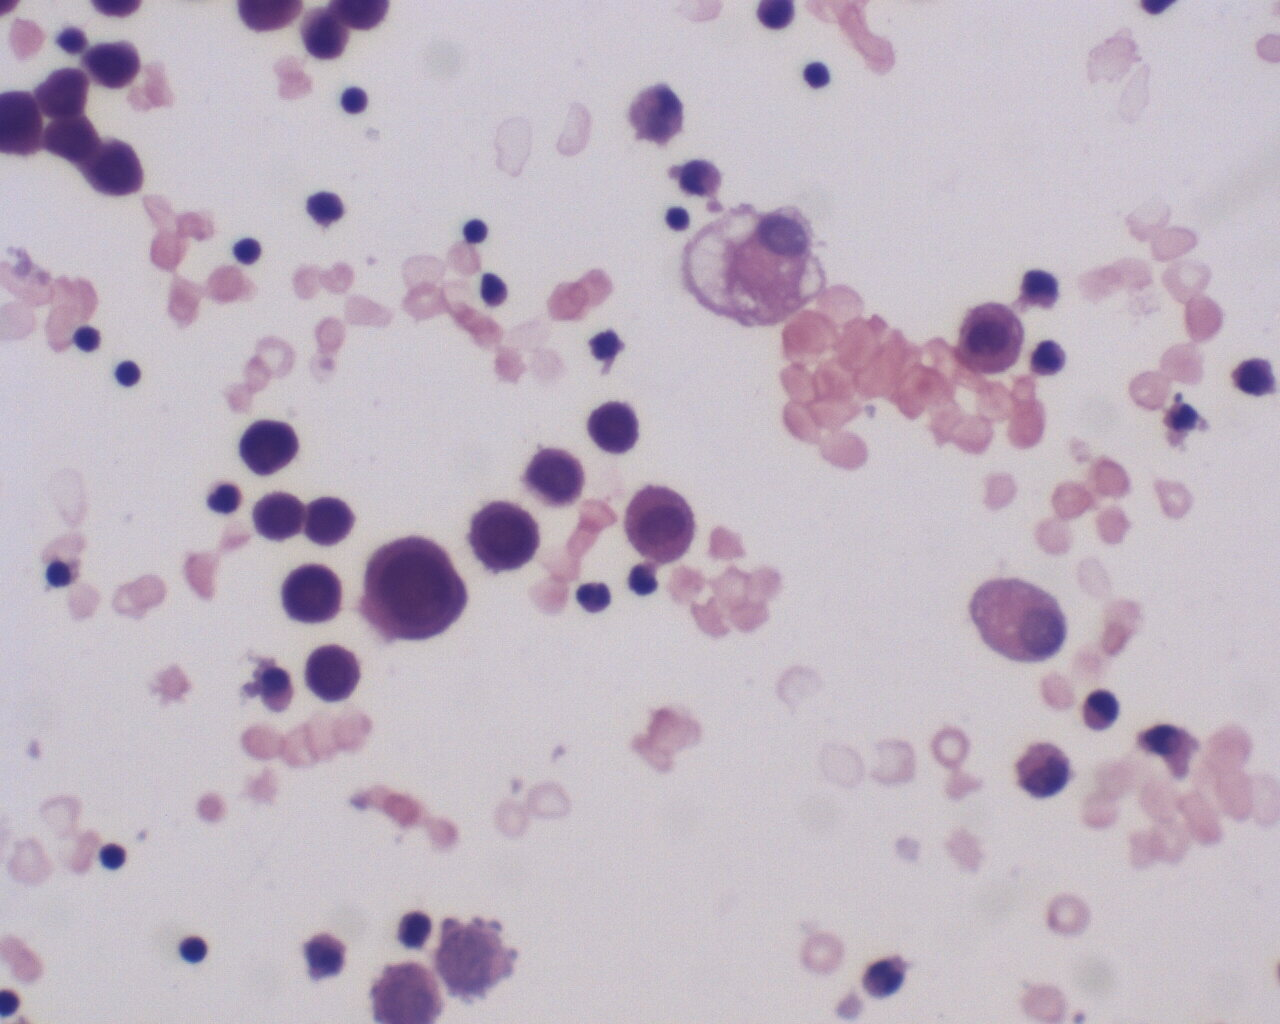ab: (358, 534, 468, 645), (469, 502, 539, 574), (79, 137, 149, 204), (280, 558, 346, 628), (519, 445, 586, 509), (238, 413, 299, 480), (585, 397, 648, 460), (301, 639, 360, 705), (82, 37, 147, 92)
lymph: (177, 928, 213, 970), (794, 59, 838, 93), (97, 838, 134, 877), (456, 216, 492, 252), (114, 355, 148, 393), (338, 82, 371, 119), (230, 235, 262, 271)
meso: (620, 484, 700, 567), (953, 298, 1032, 380)
neutro: (575, 577, 614, 616)
